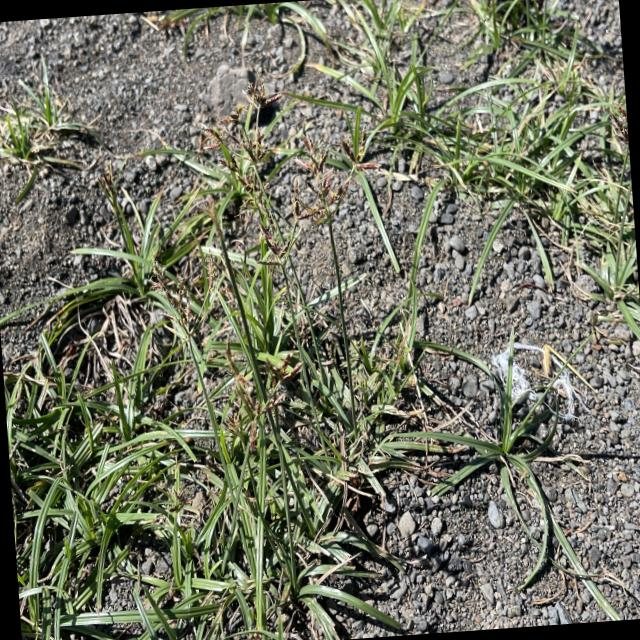cyperus: (190, 70, 304, 256), (212, 332, 310, 452), (287, 123, 379, 238), (142, 242, 202, 338), (90, 156, 124, 202)
